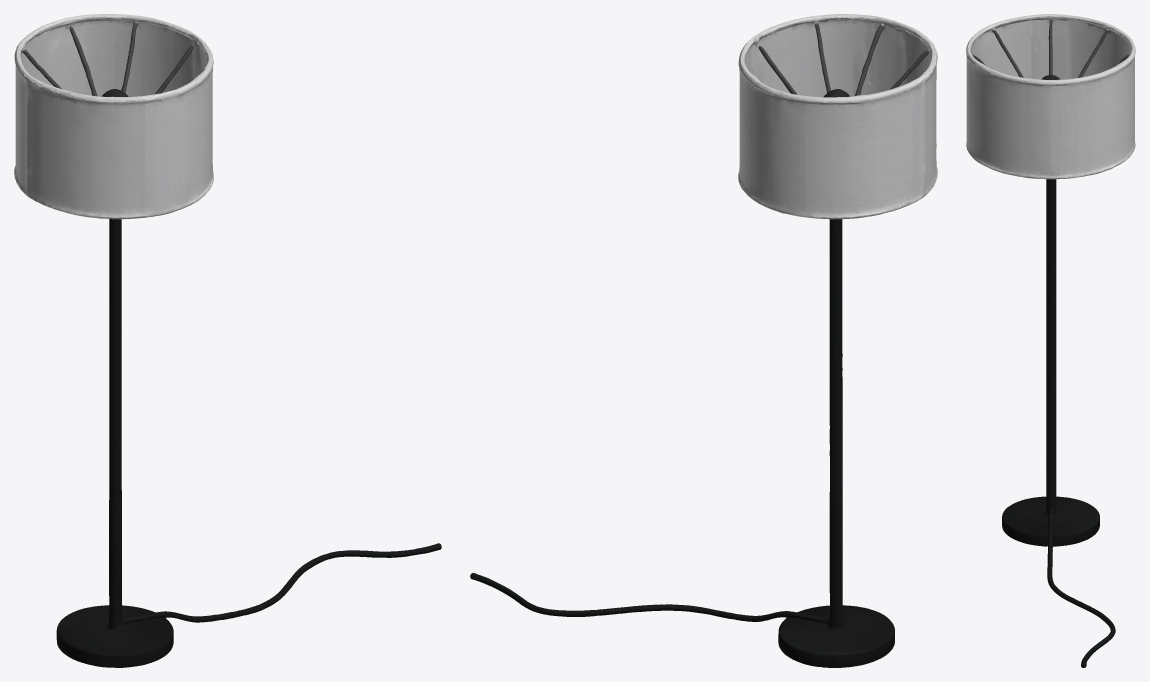
Rendered from L_FLOOR_LAMP.glb.
The picture shows the model from 3 angles, left to right: view 1: azimuth 30°, elevation 25°; view 2: azimuth 150°, elevation 25°; view 3: azimuth 270°, elevation 25°; orthographic projection. The views are drawn at different scales.
Parts seen in each view (by area): view 1: world; view 2: world; view 3: world.
Part boxes in pixels (<box>): world: <box>14,14,441,667</box>; world: <box>470,14,937,667</box>; world: <box>966,14,1135,667</box>.
Bounding box in the file's own units: 1.11 × 1.45 × 0.4596.
Materials: 1 (1 with a texture image).
